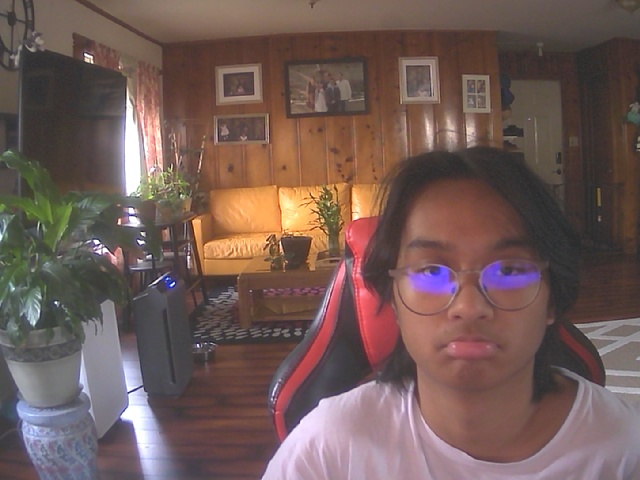sad: (381, 157, 567, 397)
